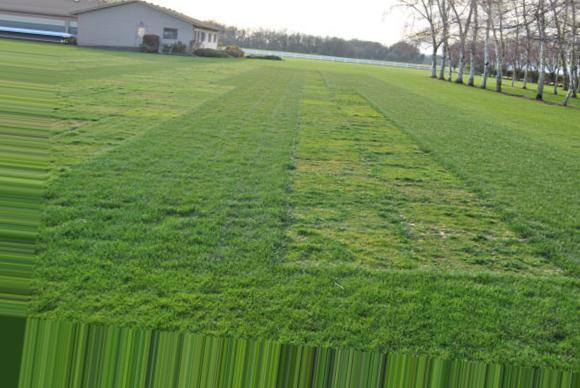patch: (303, 158, 347, 178)
